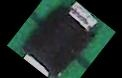diode: (14, 0, 107, 78)
